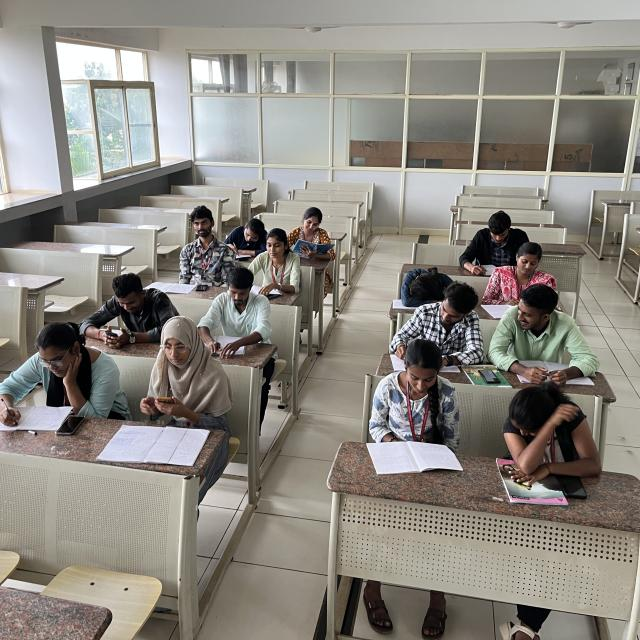Reading: (361, 339, 460, 470), (459, 206, 531, 278), (255, 230, 301, 302), (288, 203, 340, 263)
Sleeping: (389, 260, 452, 306)
Using Phone: (142, 314, 234, 422), (78, 269, 174, 352)
Writing: (0, 321, 104, 429), (224, 214, 270, 260)
